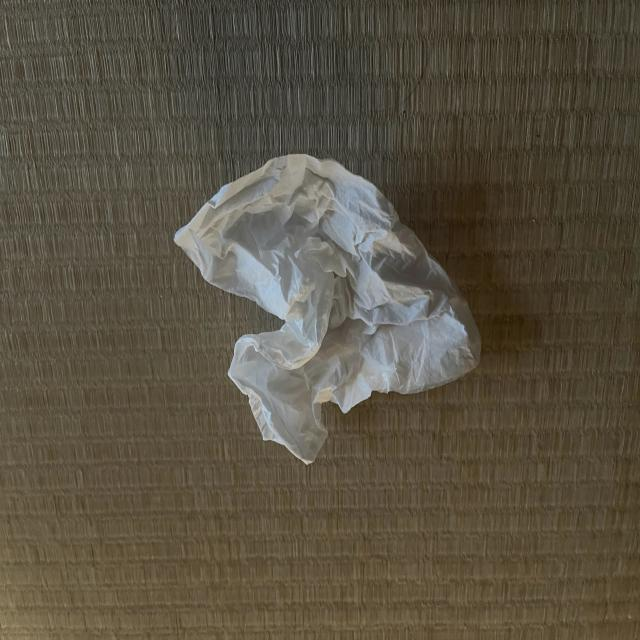Paper: (180, 167, 464, 485)
